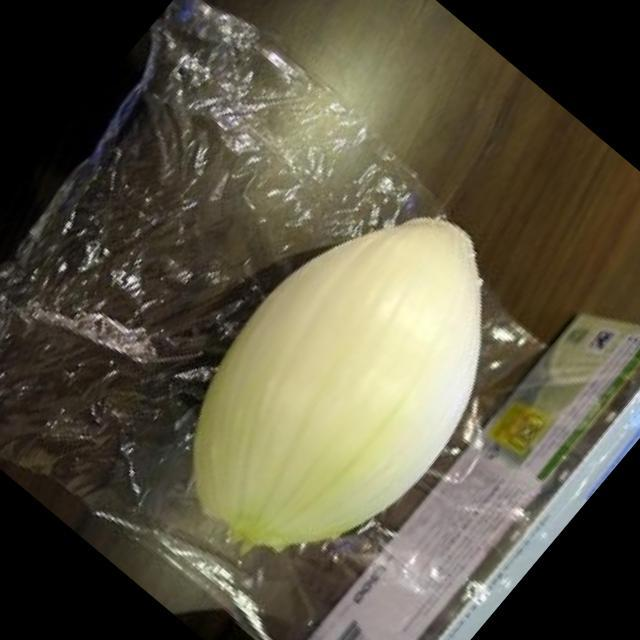Onion: (194, 216, 481, 543)
